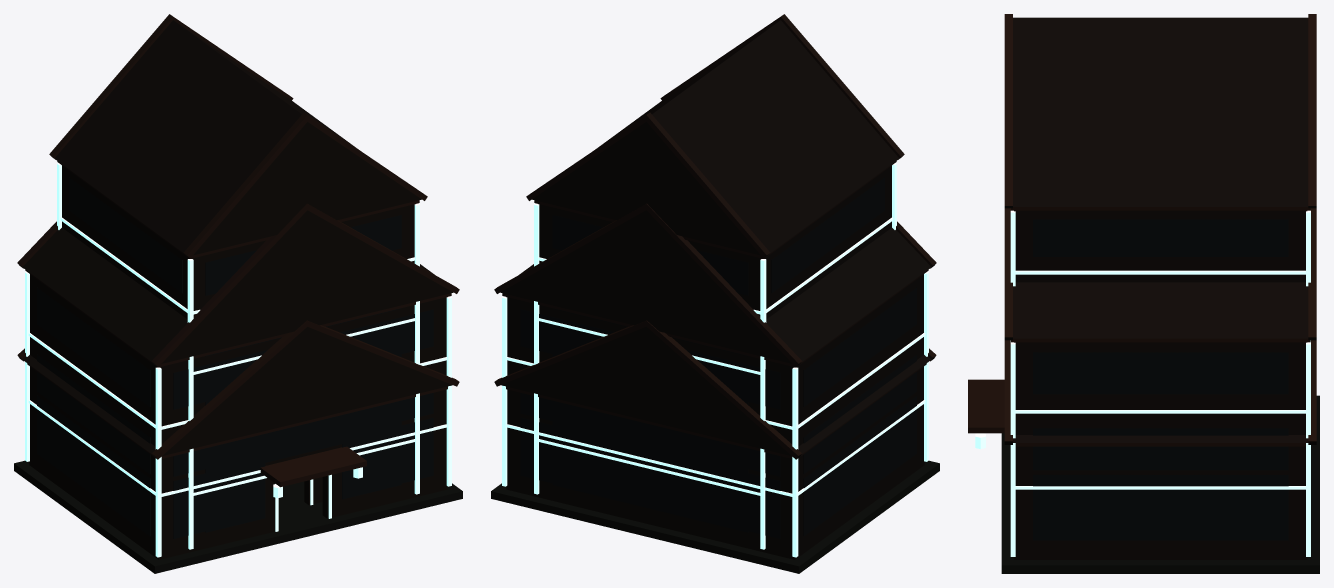
File: shaddai_realm_town_forest_v01.glb
3 views of the same model, side by side, from view 1: azimuth 30°, elevation 25°; view 2: azimuth 150°, elevation 25°; view 3: azimuth 270°, elevation 25° (orthographic). The views are drawn at different scales.
Visible parts, largest first — view 1: shaddai_bld_forest_apartments, shaddai_bld_forest_inn, shaddai_bld_forest_workshop, shaddai_bld_forest_home; view 2: shaddai_bld_forest_inn, shaddai_bld_forest_apartments, shaddai_bld_forest_workshop; view 3: shaddai_bld_forest_apartments, shaddai_bld_forest_inn, shaddai_bld_forest_workshop.
Boxes of the visible parts, left/top/right/bottom form: shaddai_bld_forest_apartments: left=49, top=14, right=430, bottom=565; shaddai_bld_forest_inn: left=14, top=203, right=462, bottom=573; shaddai_bld_forest_workshop: left=17, top=320, right=459, bottom=559; shaddai_bld_forest_home: left=260, top=446, right=348, bottom=505; shaddai_bld_forest_inn: left=491, top=203, right=939, bottom=573; shaddai_bld_forest_apartments: left=523, top=14, right=904, bottom=565; shaddai_bld_forest_workshop: left=494, top=320, right=936, bottom=558; shaddai_bld_forest_apartments: left=968, top=14, right=1319, bottom=503; shaddai_bld_forest_inn: left=1001, top=208, right=1319, bottom=573; shaddai_bld_forest_workshop: left=1004, top=340, right=1316, bottom=559.
Size of the model in its own units: 19.2 by 25.02 by 16.8.
